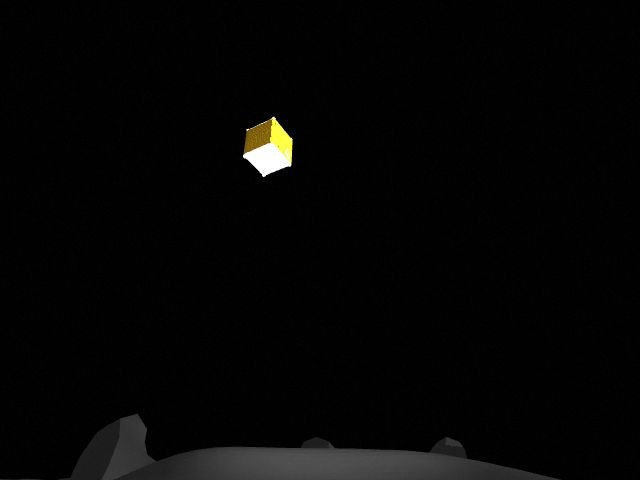cubesat: (240, 110, 299, 183)
